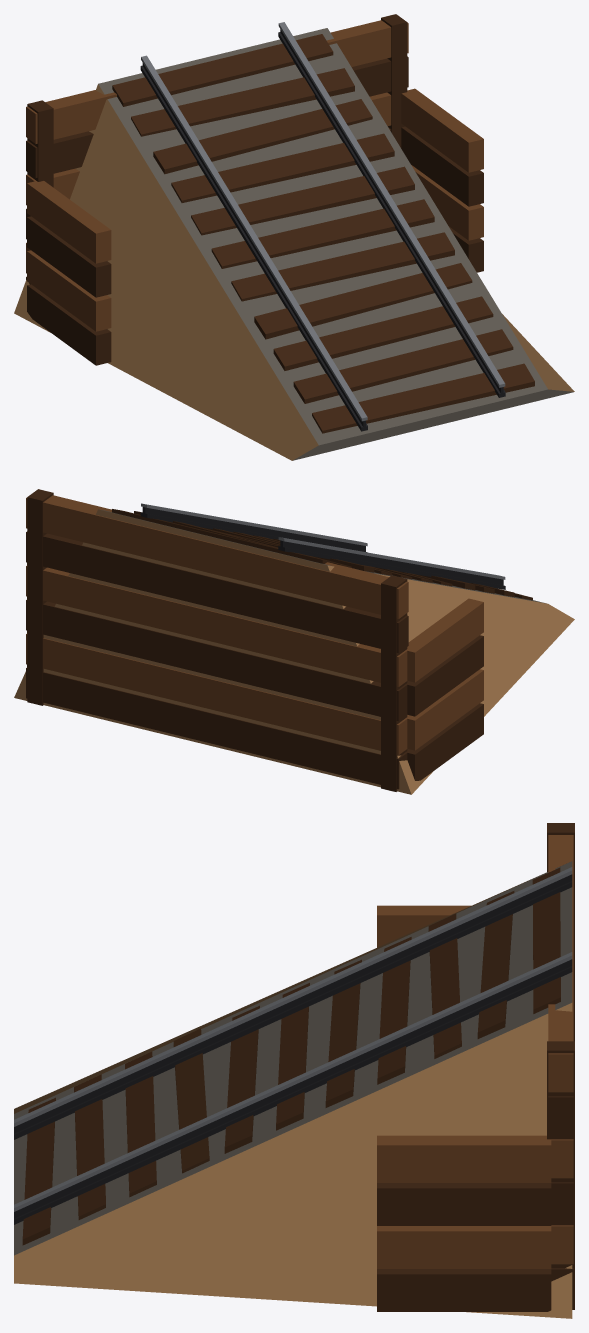
Rendered from SM_Rail_Bridge_Start.obj.
The picture shows the model from 3 angles, top to bottom: view 1: azimuth 30°, elevation 25°; view 2: azimuth 150°, elevation 25°; view 3: azimuth 270°, elevation 25°; orthographic projection. The views are drawn at different scales.
Parts seen in each view (by area): view 1: SM_Rail_Bridge_Start; view 2: SM_Rail_Bridge_Start; view 3: SM_Rail_Bridge_Start.
Part boxes in pixels (<box>): SM_Rail_Bridge_Start: <box>14,14,574,460</box>; SM_Rail_Bridge_Start: <box>14,489,574,794</box>; SM_Rail_Bridge_Start: <box>14,823,574,1318</box>.
Size of the model in its own units: 4.16 by 2.25 by 4.02.
